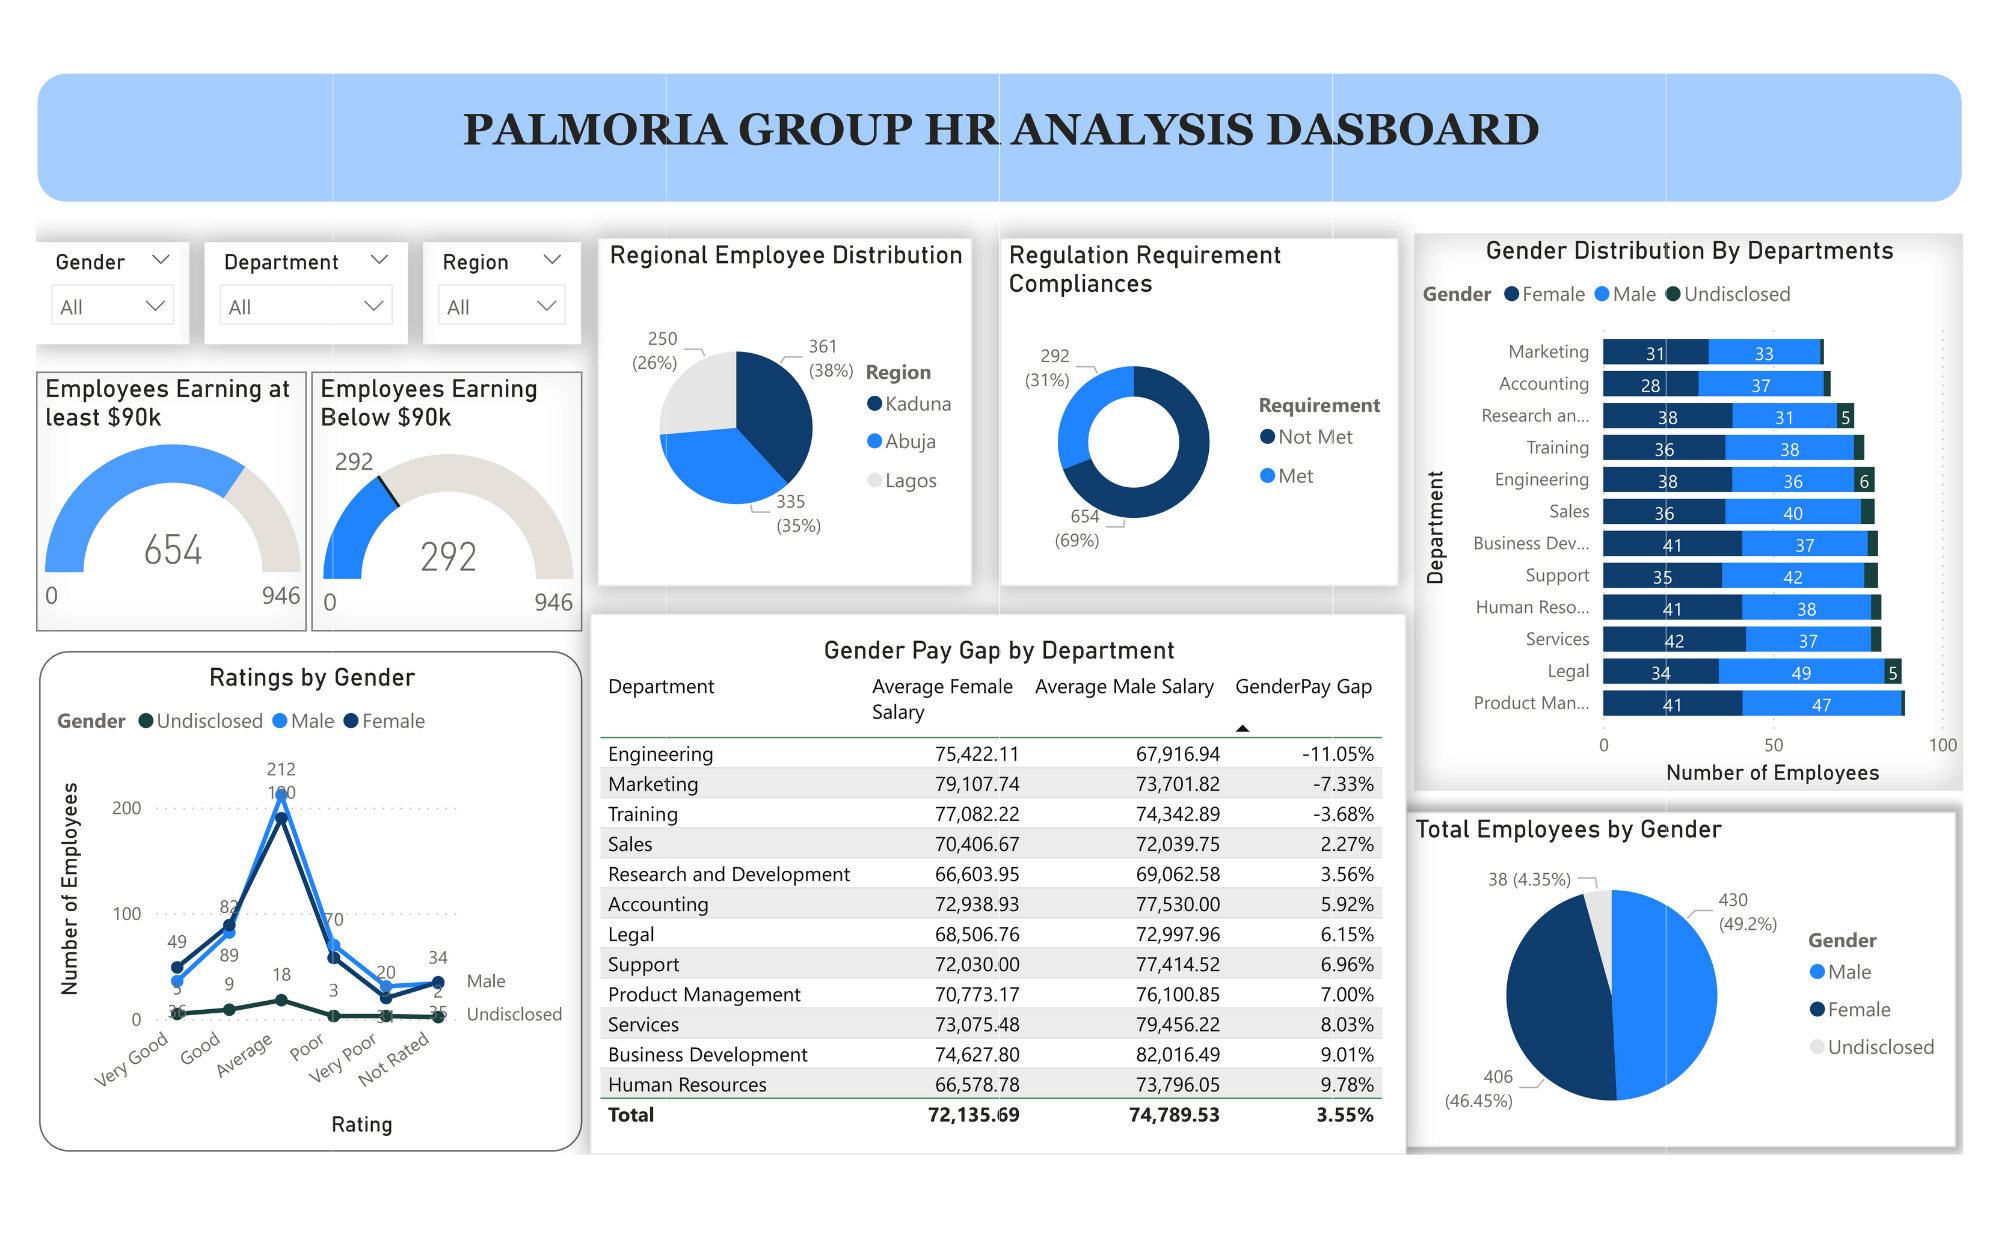

What the dashboard file says about the page in this screenshot:
{"tool":"powerbi","page":{"name":"Page 1","canvas":[1280,720],"ordinal":0},"visuals":[{"type":"pieChart","title":"Regional Employee Distribution","fields":{"Y":["CountNonNull(Employee.Gender)"],"Category":["Employee.Region"]},"box":[373.3,110,248.3,231.7],"z":0},{"type":"barChart","title":"Gender Distribution By Departments","fields":{"Category":["Employee.Department"],"Y":["CountNonNull(Employee.Gender)"],"Series":["Employee.Gender"]},"box":[915,106.7,365,371.7],"z":1000},{"type":"lineChart","title":"Ratings by Gender","fields":{"Category":["Employee.Rating"],"Y":["CountNonNull(Employee.Gender)"],"Series":["Employee.Gender"]},"box":[1.7,385,361.7,333.3],"z":2000},{"type":"donutChart","title":"Regulation Requirement Compliances","fields":{"Category":["Employee.Regulation Requirement"],"Y":["CountNonNull(Employee.Gender)"]},"box":[640,110,265,231.7],"z":3000},{"type":"gauge","title":"Employees Earning Below $90k","fields":{"TargetValue":["Employee.Count of Regulation Requirement for Met"],"MaxValue":["CountNonNull(Employee.Regulation Requirement)"],"Y":["Employee.Count of Regulation Requirement for Met"]},"box":[183.3,198.5,180,173.3],"z":4000},{"type":"gauge","title":"Employees Earning at least $90k","fields":{"MaxValue":["CountNonNull(Employee.Regulation Requirement)"],"Y":["Employee.Count of Regulation Requirement for Not Met"]},"box":[0,198.5,180,173.3],"z":5000},{"type":"textbox","title":"PALMORIA GROUP HR ANALYSIS DASBOARD","box":[0,0,1280,86.7],"z":6000},{"type":"pieChart","fields":{"Y":["Employee.Total Employees(Distinct)"],"Category":["Employee.Gender"]},"box":[910,491.7,365,223.3],"z":7000},{"type":"slicer","fields":{"Values":["Employee.Gender"]},"box":[0,112.5,101.7,68.3],"z":8000},{"type":"tableEx","title":"Gender Pay Gap by Department","fields":{"Values":["Employee.Department","Employee.Average Female Salary","Employee.Average Male Salary","Employee.GenderPay Gap"]},"box":[367.9,360.7,536,353.5],"z":9000},{"type":"slicer","fields":{"Values":["Employee.Region"]},"box":[256.7,112.5,105,68.3],"z":10000},{"type":"slicer","fields":{"Values":["Employee.Department"]},"box":[111.7,112.5,135,68.3],"z":11000}]}

Visuals, with their boxes on the page's 1280x720 design canvas (x1, y1, x2, y2). These are canvas units, not pixel positions in the 1991x1256 screenshot, which may show the page scaled, cropped or inside an application window:
"Regional Employee Distribution" pieChart: Rect(373, 110, 622, 342)
"Gender Distribution By Departments" barChart: Rect(915, 107, 1280, 478)
"Ratings by Gender" lineChart: Rect(2, 385, 363, 718)
"Regulation Requirement Compliances" donutChart: Rect(640, 110, 905, 342)
"Employees Earning Below $90k" gauge: Rect(183, 198, 363, 372)
"Employees Earning at least $90k" gauge: Rect(0, 198, 180, 372)
"PALMORIA GROUP HR ANALYSIS DASBOARD" textbox: Rect(0, 0, 1280, 87)
pieChart - Employee.Total Employees(Distinct) x Employee.Gender: Rect(910, 492, 1275, 715)
slicer - Employee.Gender: Rect(0, 112, 102, 181)
"Gender Pay Gap by Department" tableEx: Rect(368, 361, 904, 714)
slicer - Employee.Region: Rect(257, 112, 362, 181)
slicer - Employee.Department: Rect(112, 112, 247, 181)
